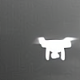plane: (32, 35, 80, 63)
